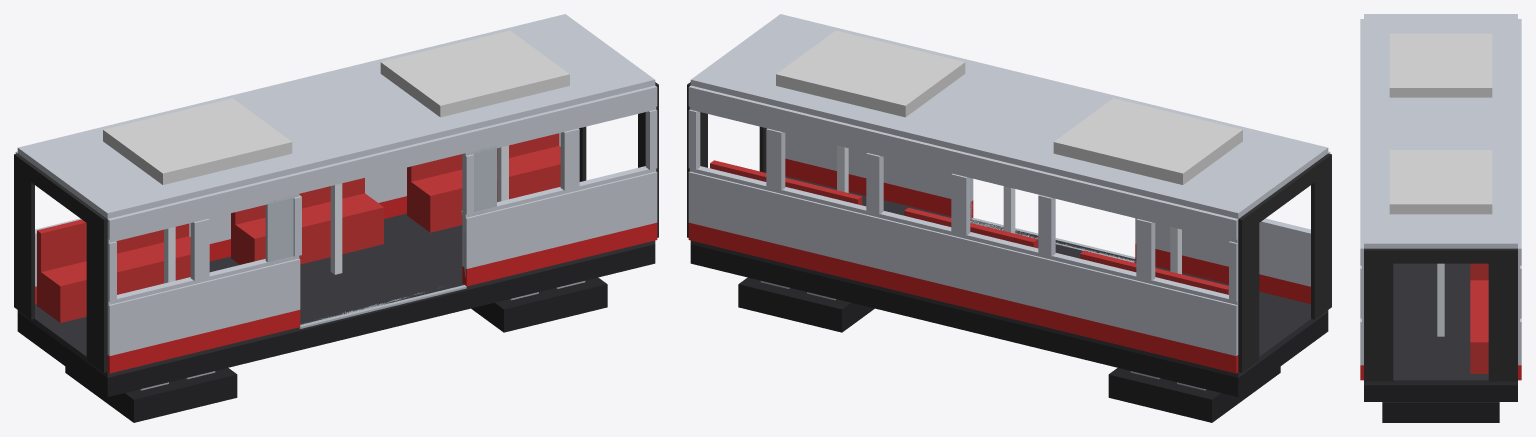
File: metro_wagon_l3.obj
The picture shows the model from 3 angles, left to right: view 1: azimuth 30°, elevation 25°; view 2: azimuth 150°, elevation 25°; view 3: azimuth 270°, elevation 25°; orthographic projection. The views are drawn at different scales.
Bounding box in the file's own units: 3 × 1.26 × 0.88.
